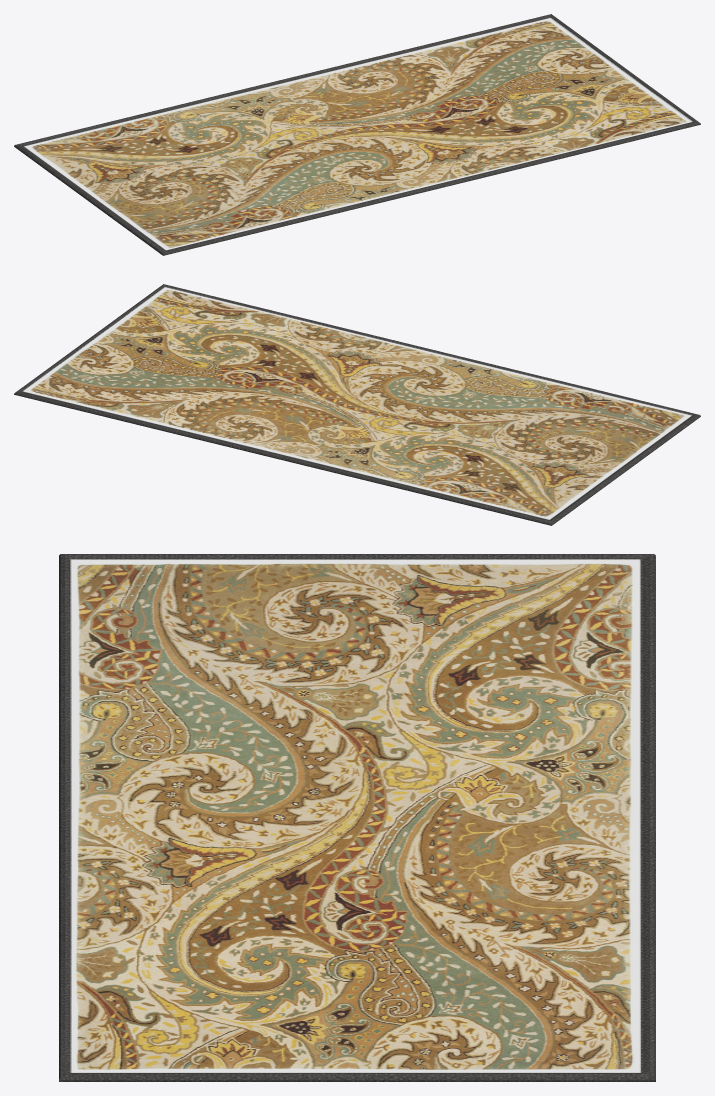
The model's file is Kitchen Rug.obj.
3 views of the same model, one above another, from view 1: azimuth 30°, elevation 25°; view 2: azimuth 150°, elevation 25°; view 3: azimuth 270°, elevation 25° (orthographic). The views are drawn at different scales.
Parts seen in each view (by area): view 1: obj1; view 2: obj1; view 3: obj1.
Part boxes in pixels (bbox=[...]): obj1: bbox=[14, 14, 700, 255]; obj1: bbox=[14, 284, 700, 525]; obj1: bbox=[59, 554, 655, 1081].
Size of the model in its own units: 2 by 0.00933 by 0.9614.
1 material, 1 textured.
